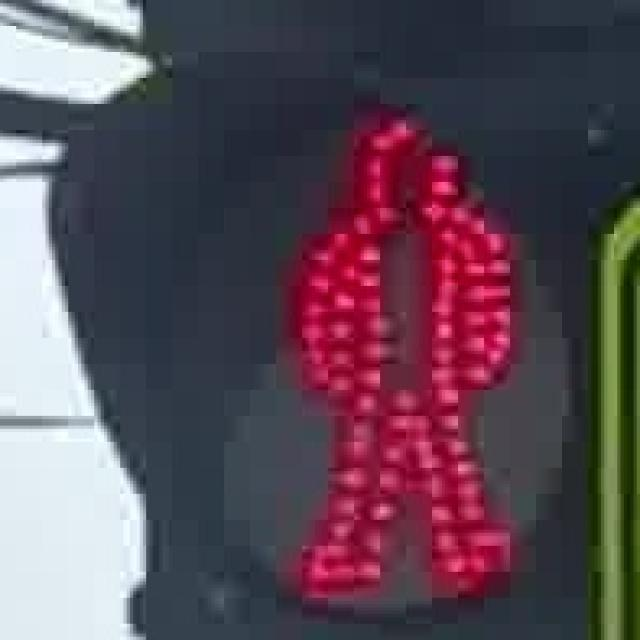red-crossing: (260, 94, 533, 604)
